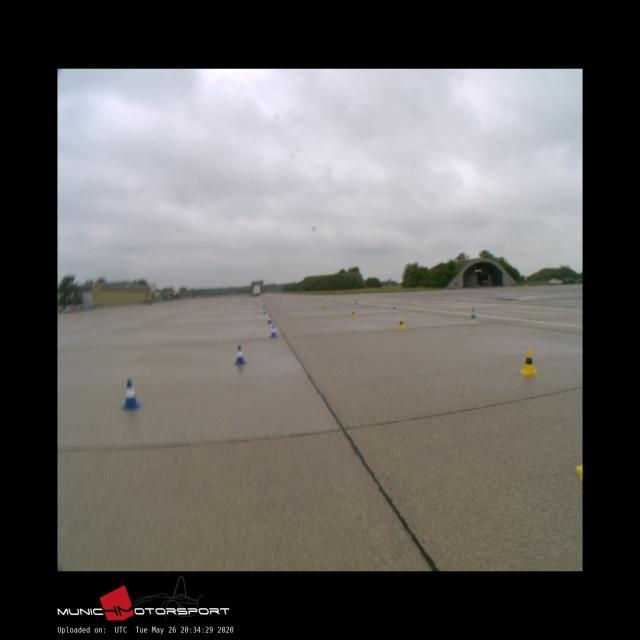blue_cone: (120, 380, 138, 409), (233, 345, 246, 365), (269, 324, 276, 337)
yellow_cone: (520, 348, 536, 374), (398, 318, 404, 329)
